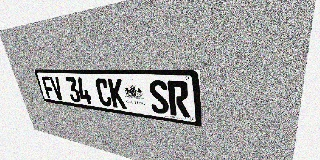3: (65, 77, 81, 103)
4: (75, 77, 92, 104)
C: (94, 78, 113, 107)
F: (41, 76, 56, 99)
K: (107, 78, 127, 109)
R: (167, 81, 190, 118)
S: (148, 80, 170, 115)
V: (49, 76, 64, 100)
